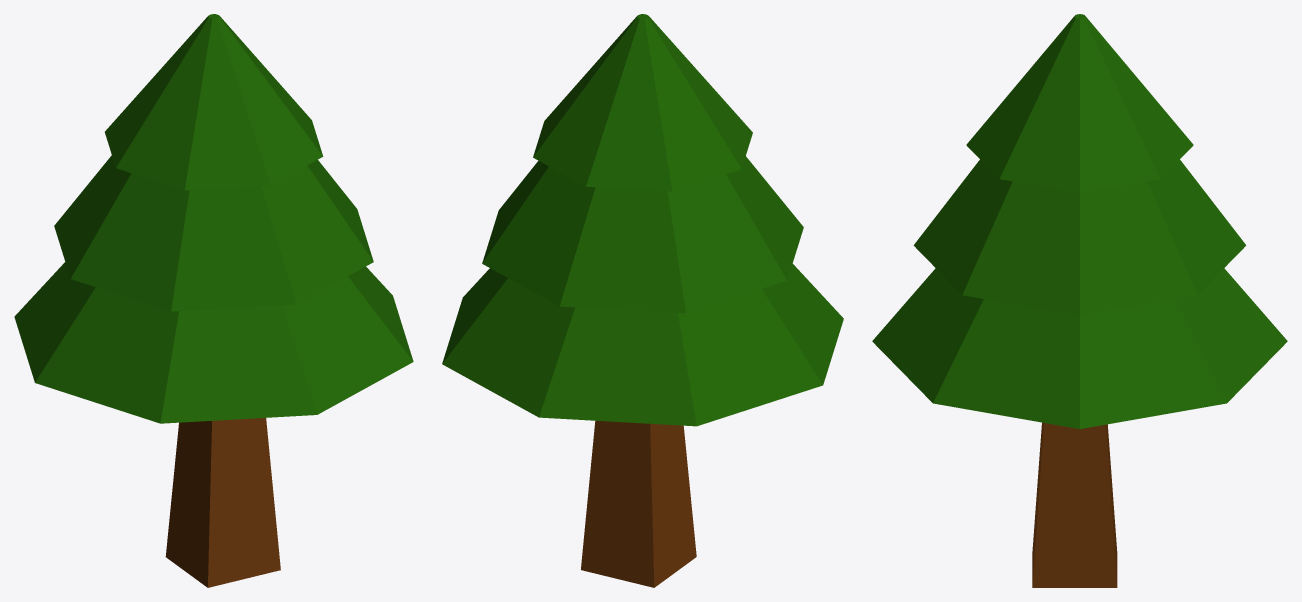
Rendered from tree11.fbx.
The picture shows the model from 3 angles, left to right: view 1: azimuth 30°, elevation 25°; view 2: azimuth 150°, elevation 25°; view 3: azimuth 270°, elevation 25°; orthographic projection.
Visible parts, largest first — view 1: Cylinder, Cube; view 2: Cylinder, Cube; view 3: Cylinder, Cube.
Boxes of the visible parts, x1,y1,x2,y2 form: Cylinder: [14, 14, 413, 423]; Cube: [165, 418, 280, 587]; Cylinder: [442, 14, 843, 426]; Cube: [581, 420, 696, 587]; Cylinder: [872, 14, 1287, 428]; Cube: [1032, 422, 1117, 587].
Size of the model in its own units: 334 by 487 by 334.
